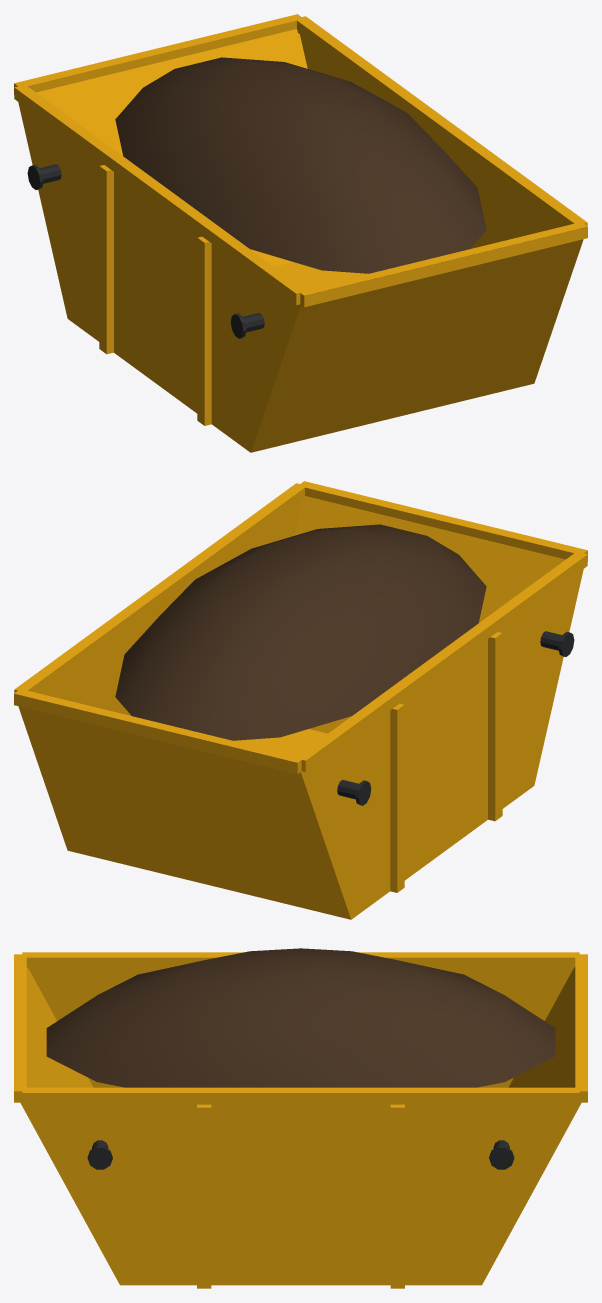
File: plant.skip.builders_soil.glb
The picture shows the model from 3 angles, top to bottom: view 1: azimuth 30°, elevation 25°; view 2: azimuth 150°, elevation 25°; view 3: azimuth 270°, elevation 25°; orthographic projection.
Parts seen in each view (by area): view 1: main__plant_yellow, main__soil, main__steel_dark; view 2: main__plant_yellow, main__soil, main__steel_dark; view 3: main__plant_yellow, main__soil, main__steel_dark.
Boxes of the visible parts, x1,y1,x2,y2 form: main__plant_yellow: [14, 14, 587, 452]; main__soil: [115, 57, 486, 273]; main__steel_dark: [27, 164, 264, 338]; main__plant_yellow: [14, 481, 587, 919]; main__soil: [115, 524, 486, 740]; main__steel_dark: [337, 631, 574, 805]; main__plant_yellow: [14, 952, 587, 1288]; main__soil: [46, 948, 555, 1087]; main__steel_dark: [87, 1140, 514, 1169].
Size of the model in its own units: 2.1 by 1.58 by 3.19.
